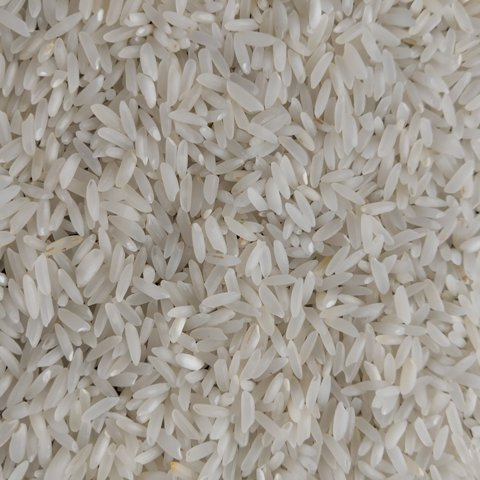gh hmt kalam_3: (72, 32, 418, 451)
